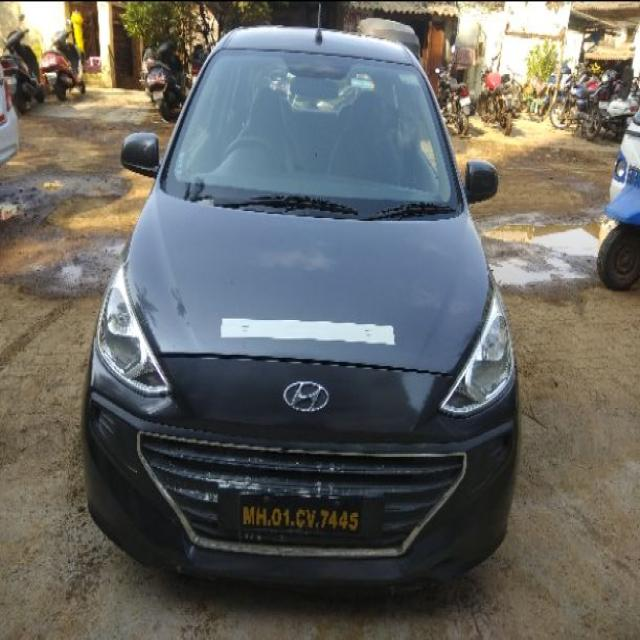license_plate: (234, 489, 384, 544)
